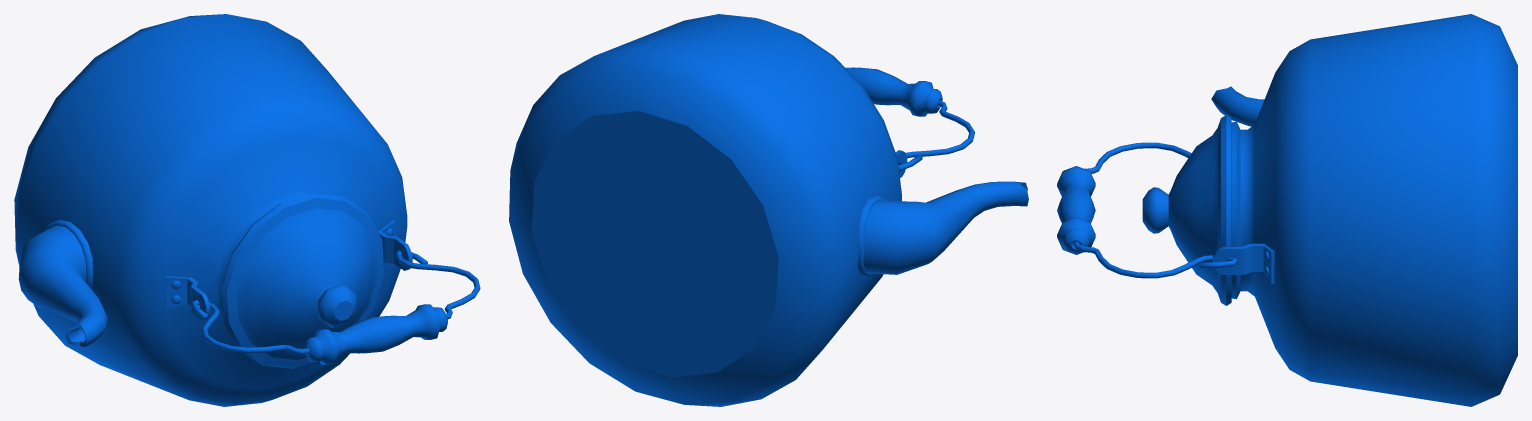
3 renders of one model, left to right at view 1: azimuth 30°, elevation 25°; view 2: azimuth 150°, elevation 25°; view 3: azimuth 270°, elevation 25°, orthographic. The views are drawn at different scales.
Size of the model in its own units: 1 by 0.8316 by 0.9716.
